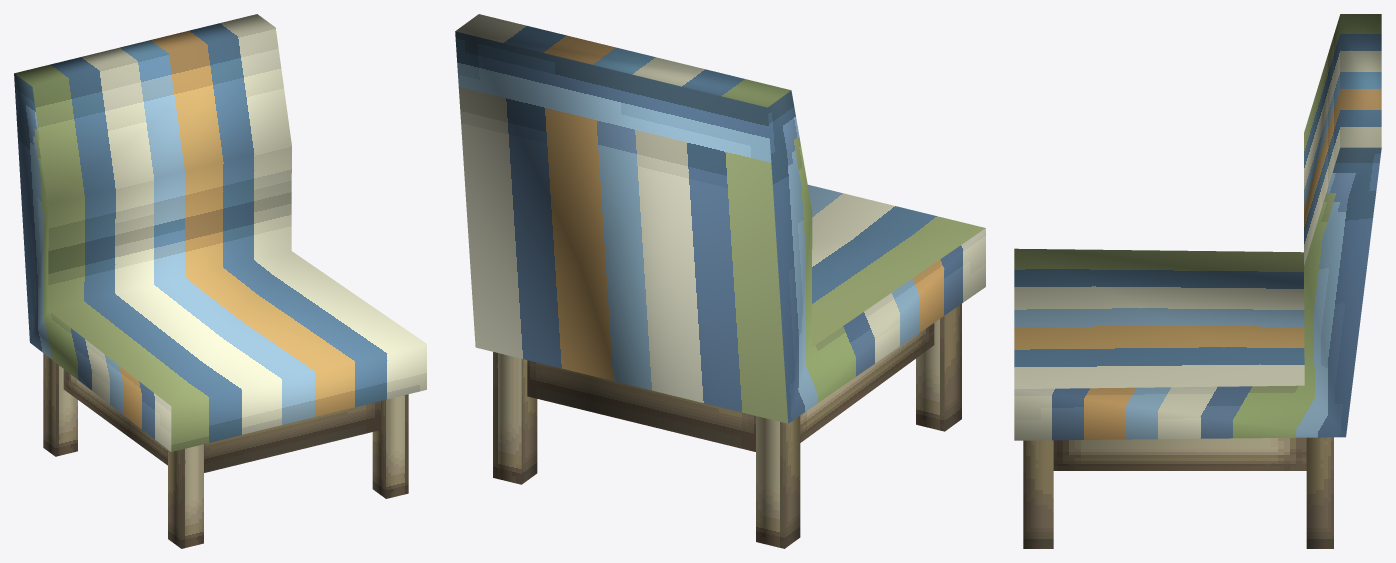
3 views of the same model, side by side, from view 1: azimuth 30°, elevation 25°; view 2: azimuth 150°, elevation 25°; view 3: azimuth 270°, elevation 25° (orthographic). The views are drawn at different scales.
Parts seen in each view (by area): view 1: 3113IMRL09_02; view 2: 3113IMRL09_02; view 3: 3113IMRL09_02.
Boxes of the visible parts, x1,y1,x2,y2 form: 3113IMRL09_02: (14,14,426,548); 3113IMRL09_02: (455,14,985,548); 3113IMRL09_02: (1014,14,1381,548).
Bounding box in the file's own units: 0.7896 × 1.06 × 0.8738.
Materials: 3 (3 with a texture image).
